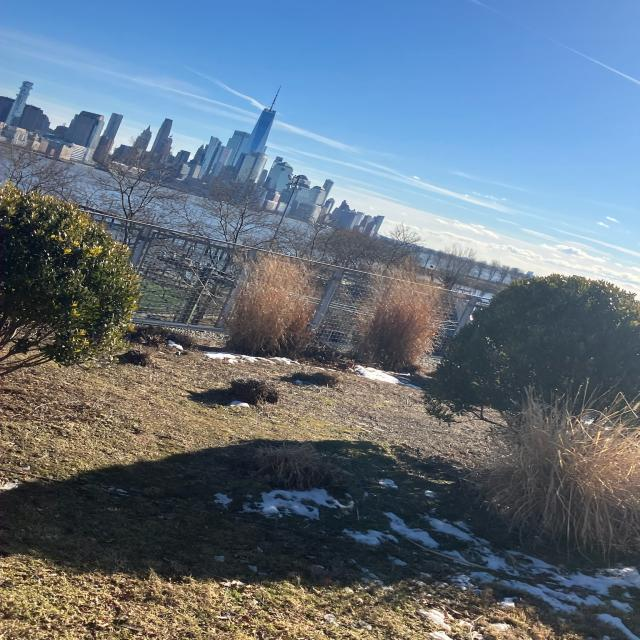WTC: (245, 83, 288, 155)
